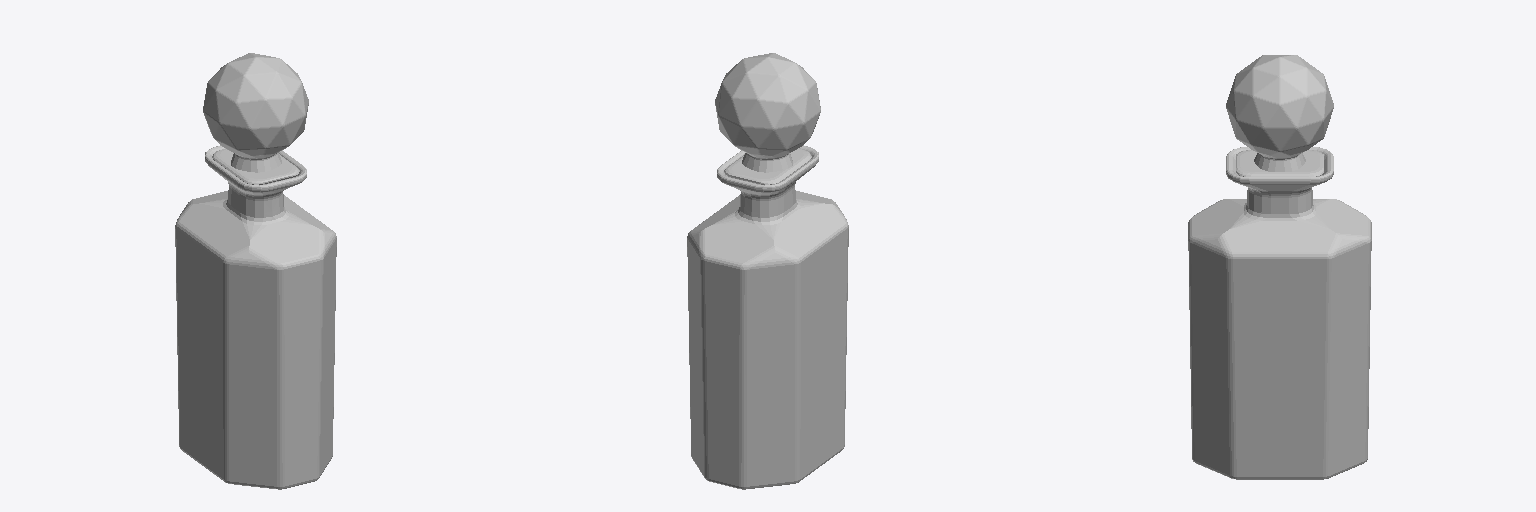
Rendered from king.obj.
The picture shows the model from 3 angles: view 1: azimuth 30°, elevation 25°; view 2: azimuth 150°, elevation 25°; view 3: azimuth 270°, elevation 25°; orthographic projection.
Parts seen in each view (by area): view 1: Icosphere; view 2: Icosphere; view 3: Icosphere.
Part boxes in pixels (bbox=[...]): Icosphere: bbox=[175, 53, 336, 489]; Icosphere: bbox=[687, 53, 848, 489]; Icosphere: bbox=[1188, 55, 1371, 479].
Bounding box in the file's own units: 0.5341 × 1.8 × 0.7538.